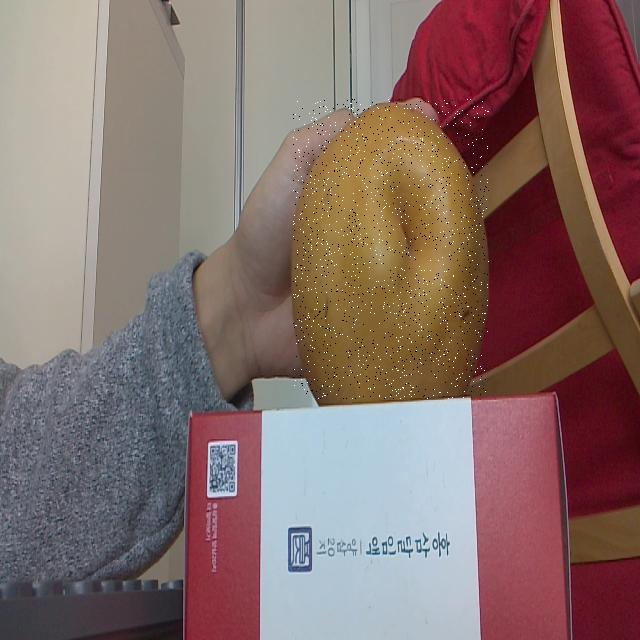pear: (293, 99, 489, 399)
